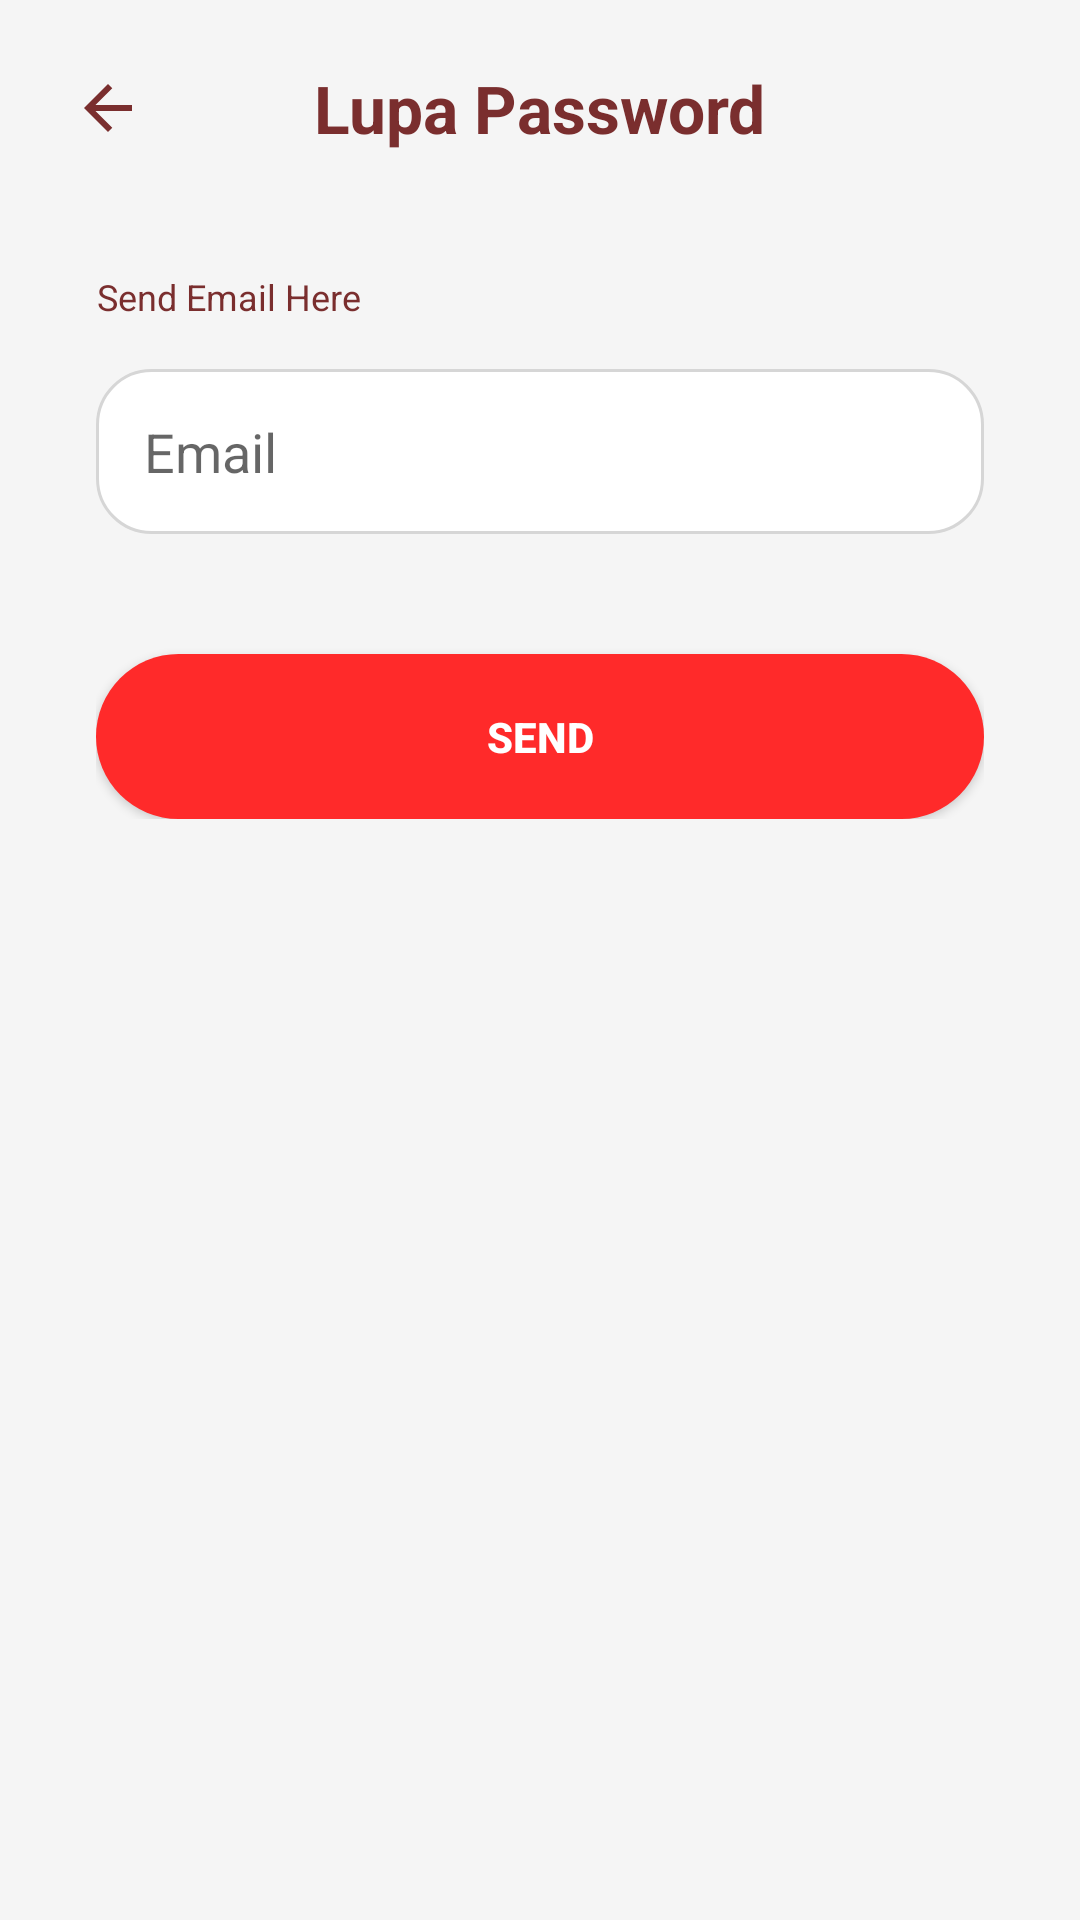

Screen size 1080px x 1920px. Icon name, then its center in pixels as (x,y):
arrow back: (108,108)
